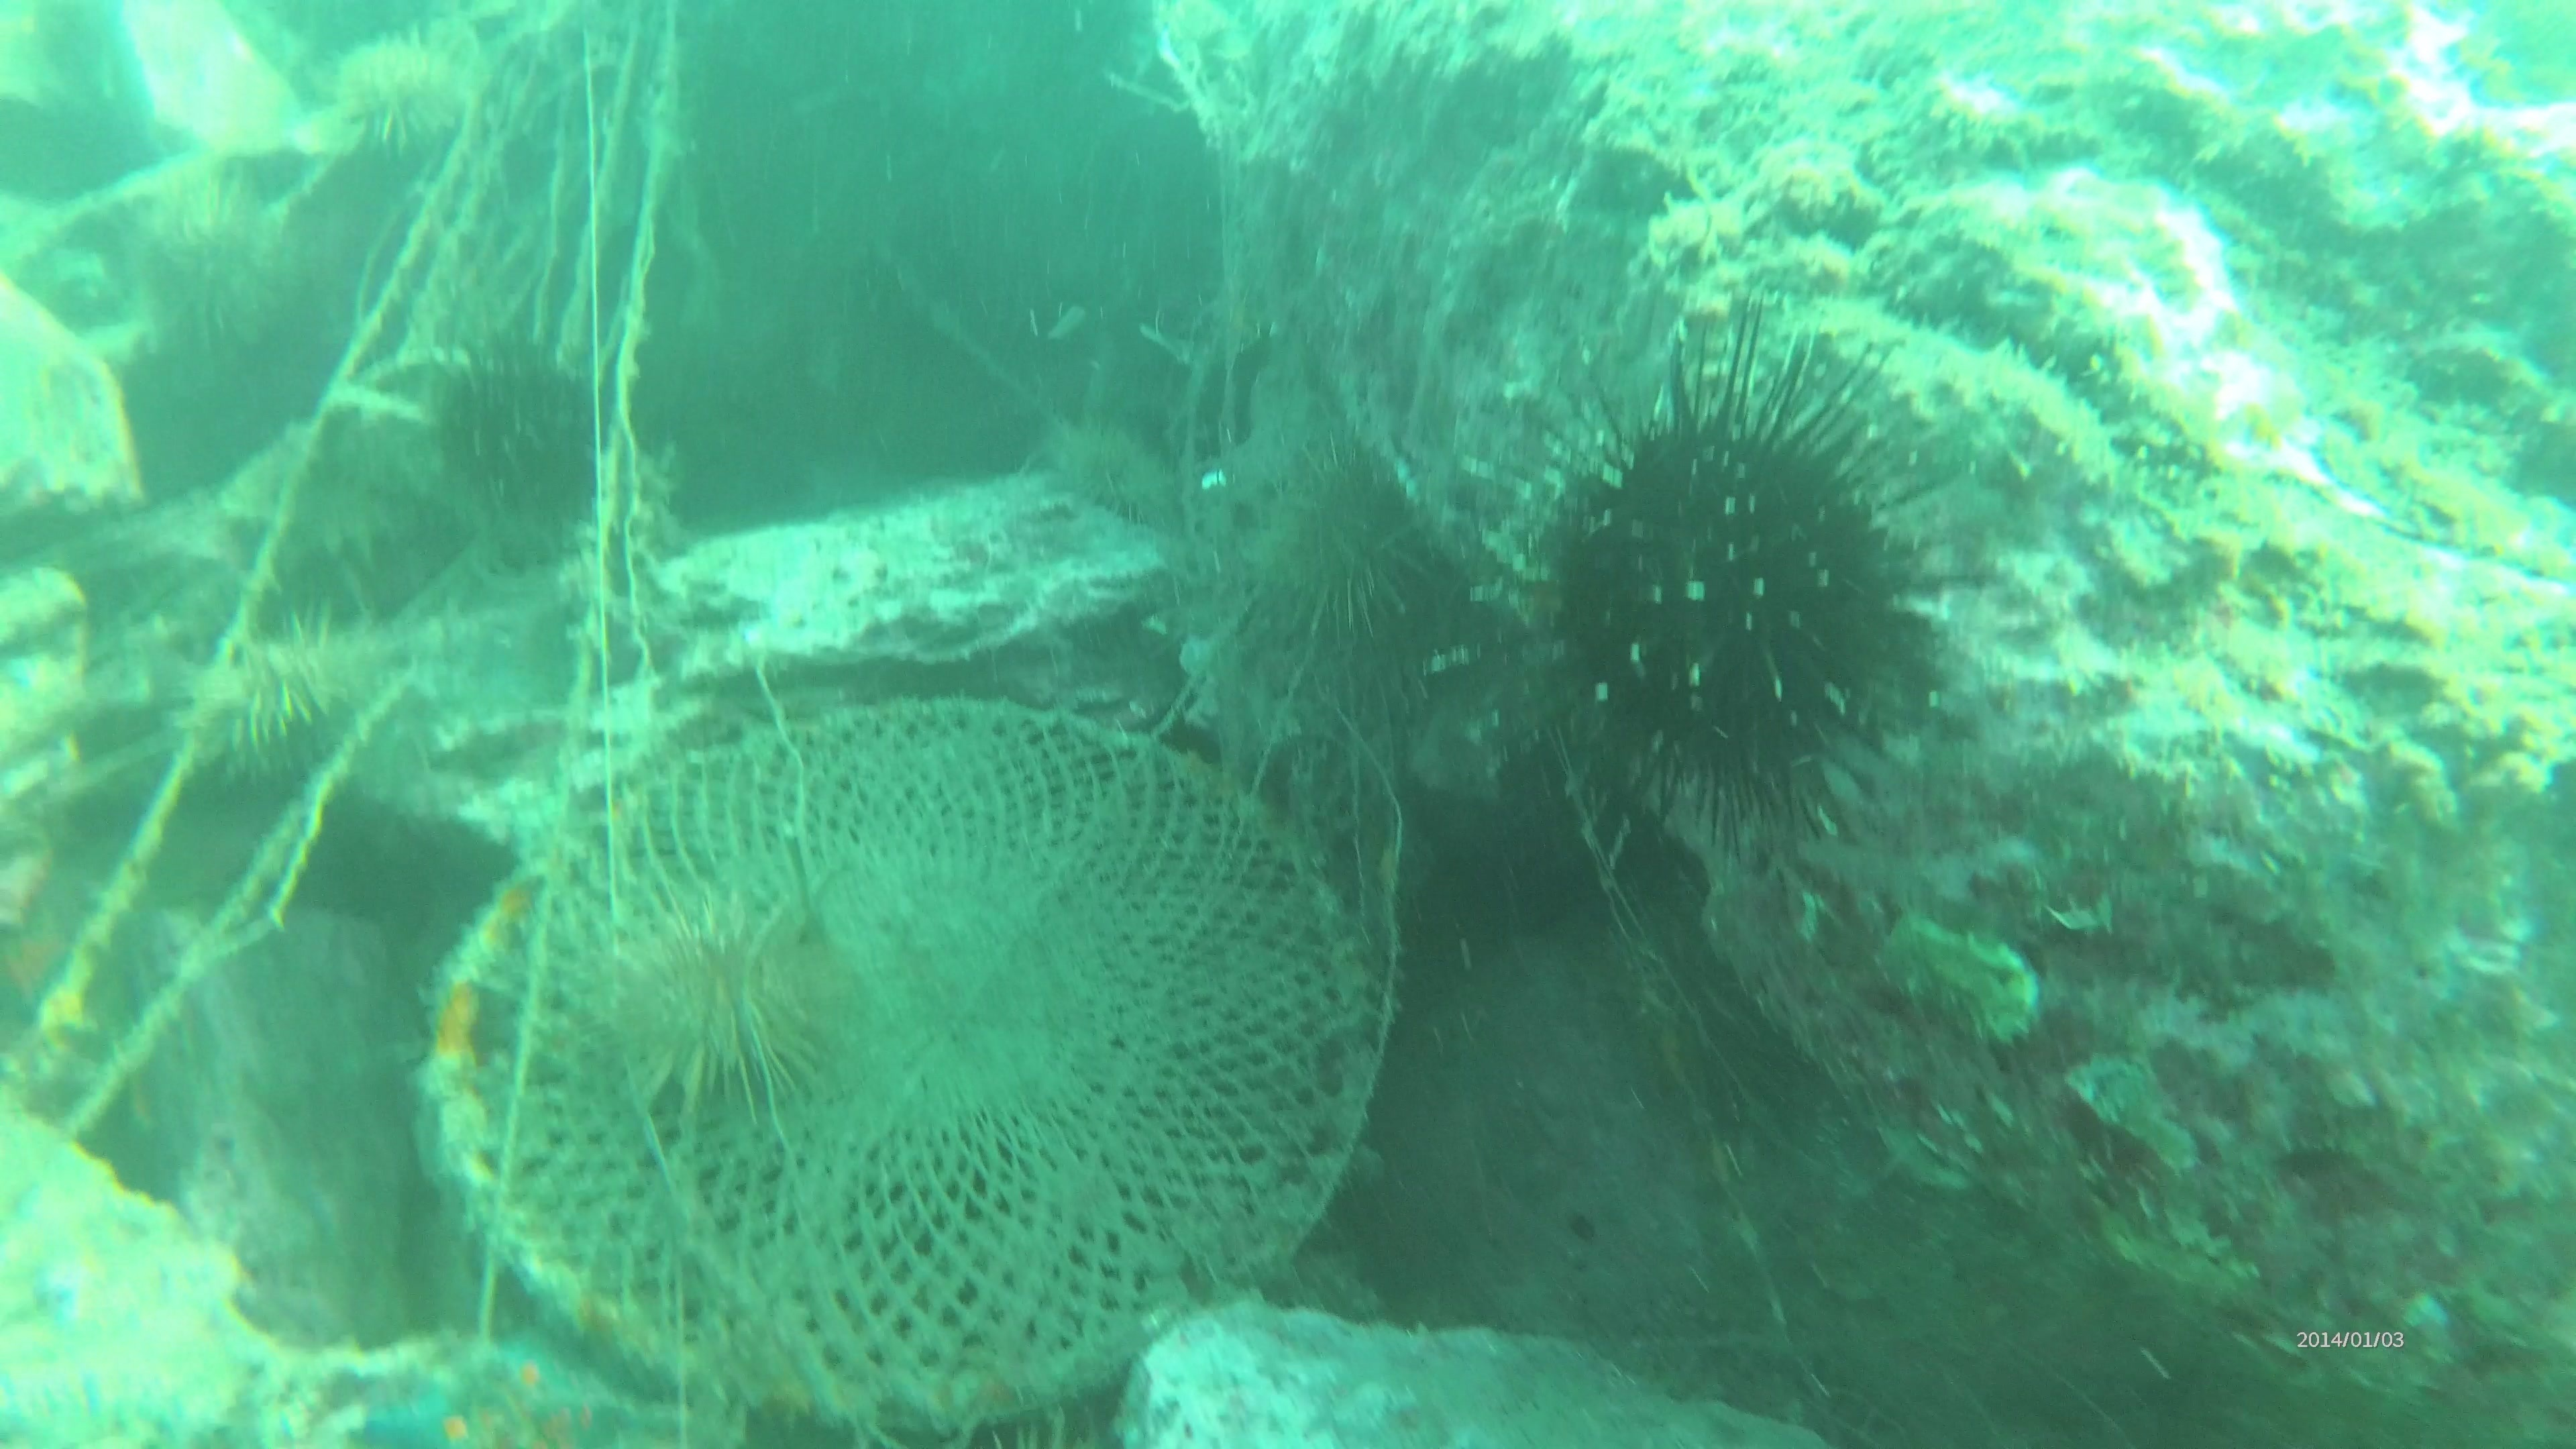echinus: (1516, 327, 1948, 849), (596, 886, 849, 1129), (1238, 435, 1440, 663), (165, 602, 402, 786), (421, 338, 609, 522), (131, 196, 306, 368), (322, 28, 487, 165), (1042, 418, 1189, 533)
holothurian: (1775, 290, 2134, 508)
starfish: (334, 1304, 665, 1440)
